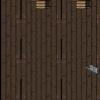Obstacle: (68, 0, 94, 15), (28, 0, 52, 14)
Win: (81, 58, 100, 78)
